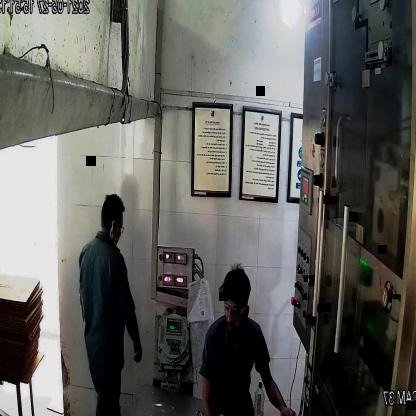goggles: (221, 294, 254, 321)
